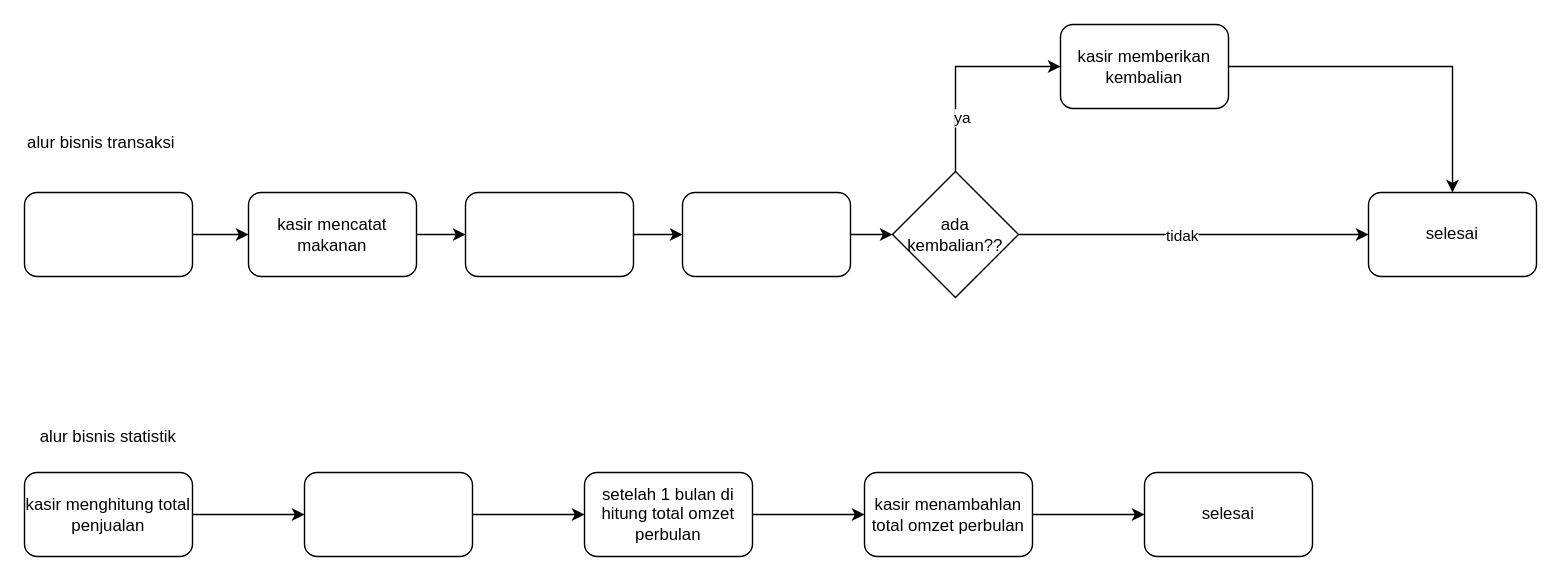
Image size: 1561x581. Some labels were removed from this diagram. The centre of each missing label's shape, as x and y in pixels:
kasir menambahkan total penjualan ke pencatatan omset perhari: point (387, 513)
kasir mengitung pembayaran dan pengembalian: point (765, 233)
pembeli membayar makanan: point (549, 233)
pembeli memesan makanan: point (107, 233)
